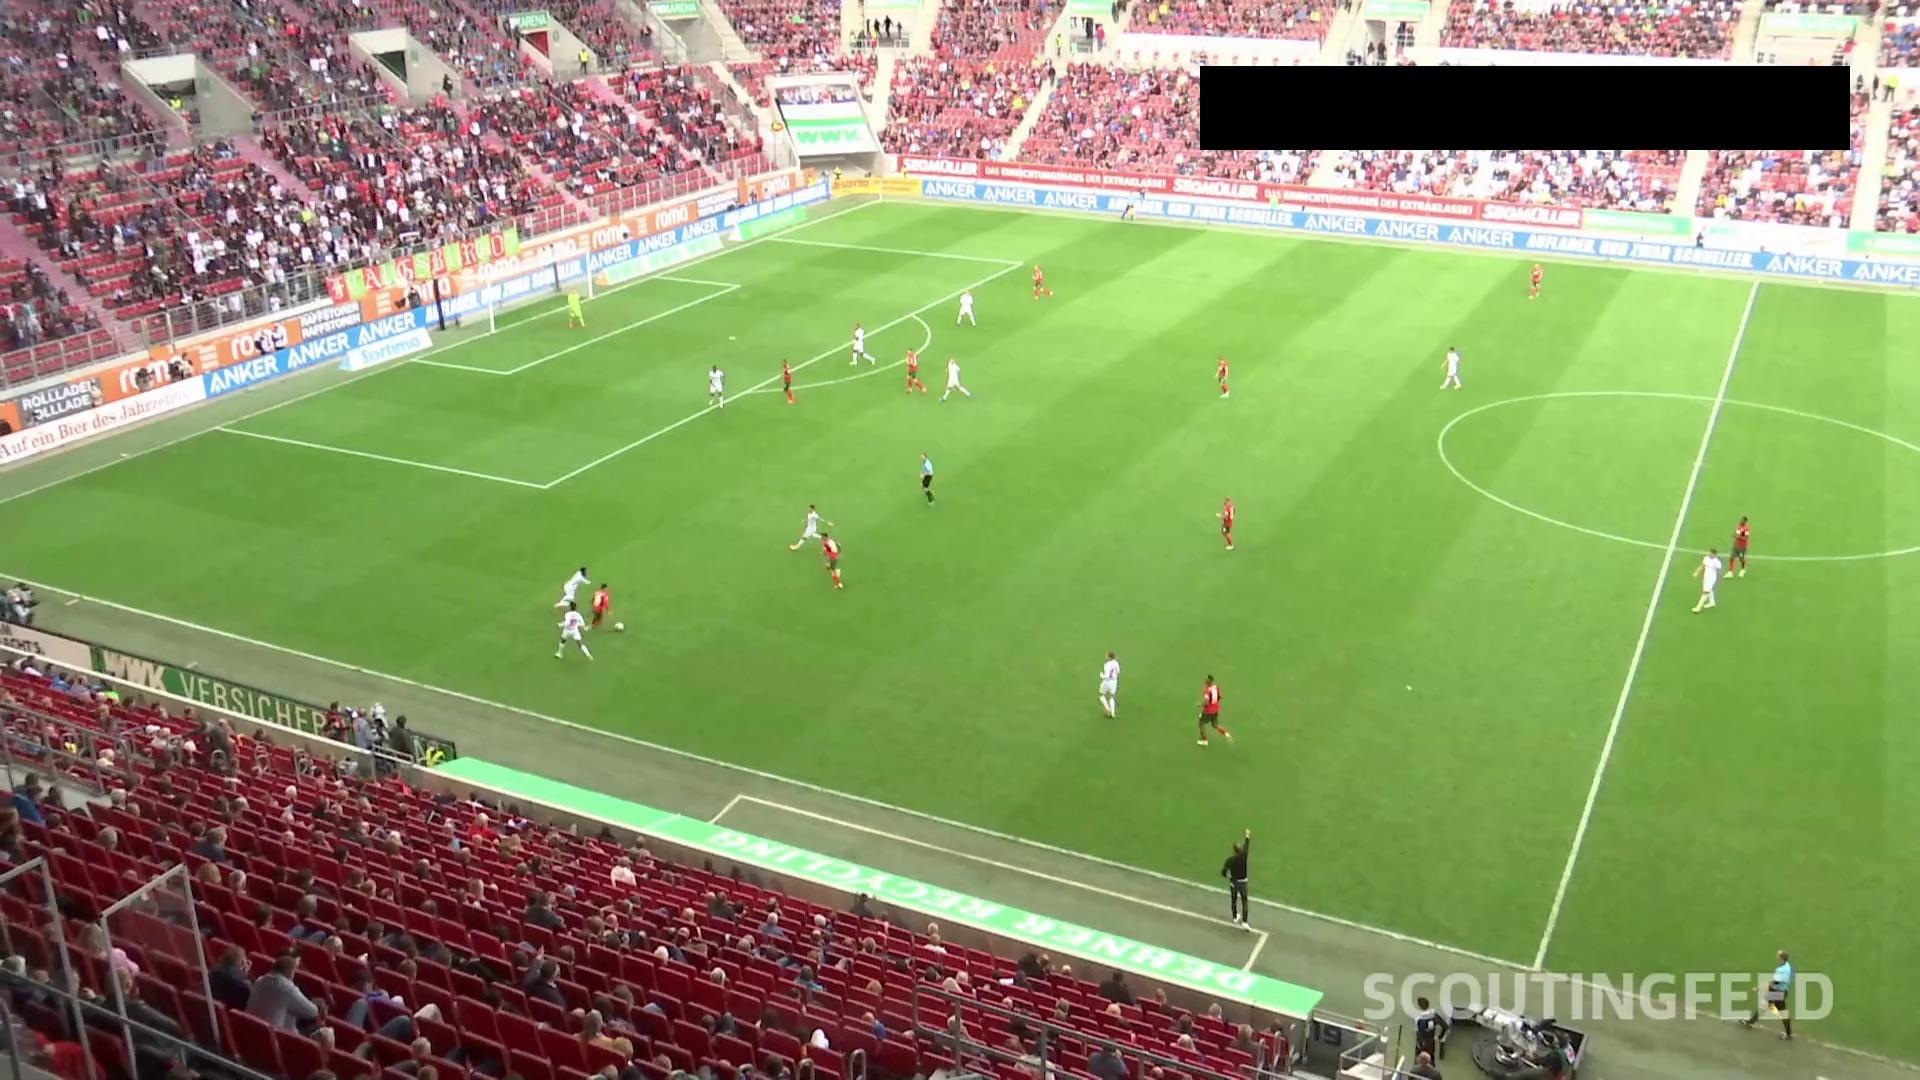Location-of-ball: (611, 617, 634, 637)
